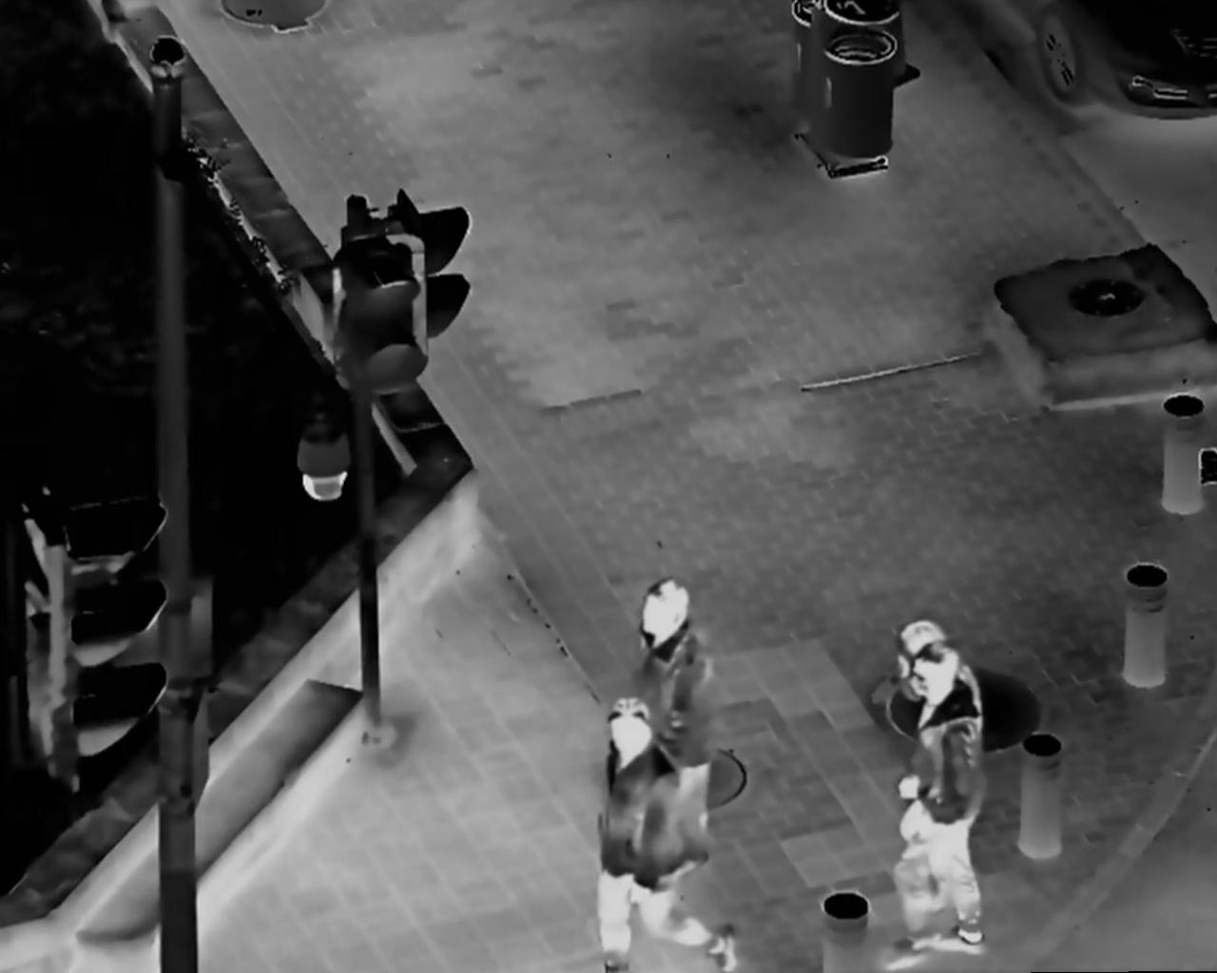person: (590, 695, 737, 973), (867, 614, 995, 913), (895, 648, 993, 956), (627, 579, 726, 868)
